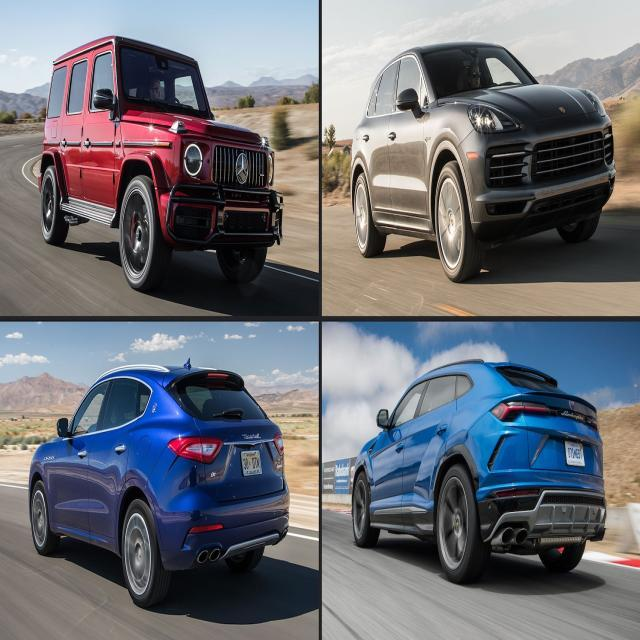sedan: (28, 357, 290, 608), (349, 40, 616, 282), (38, 34, 284, 292), (350, 358, 606, 584)
